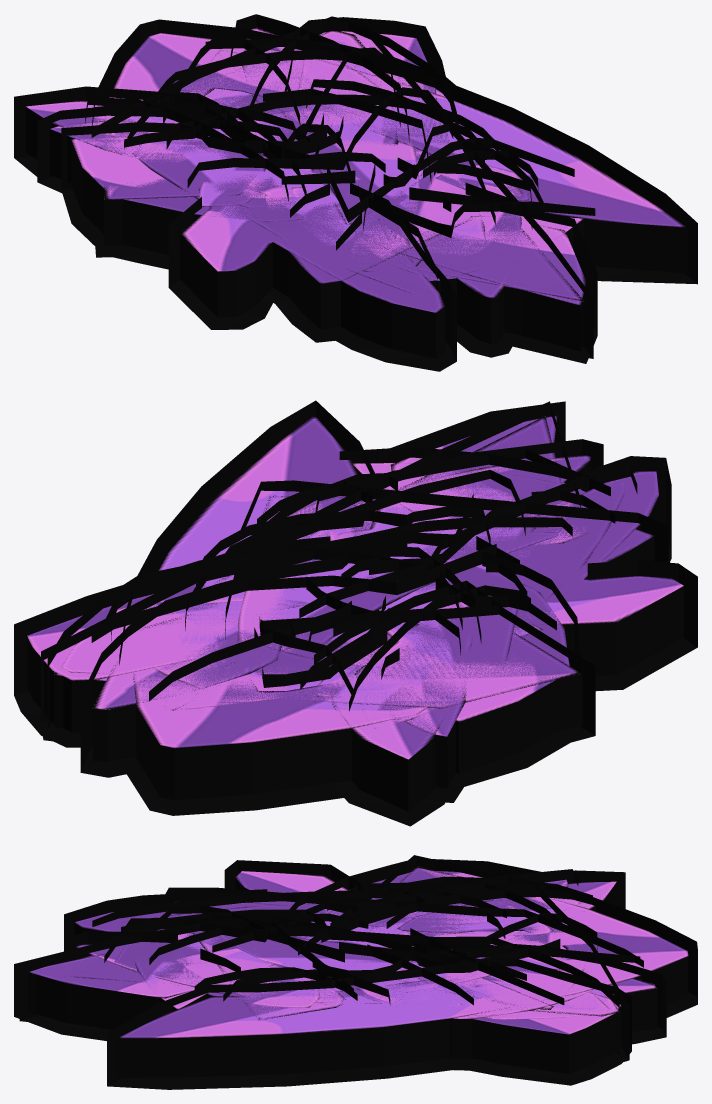
Rendered from Boss_Text.fbx.
3 views of the same model, one above another, from view 1: azimuth 30°, elevation 25°; view 2: azimuth 150°, elevation 25°; view 3: azimuth 270°, elevation 25° (orthographic). The views are drawn at different scales.
Parts seen in each view (by area): view 1: A, V, P, F, W, H, B, R, E, O, M, ~; view 2: A, V, W, F, B, P, H, R, E, O, M, ~; view 3: A, V, P, R, B, W, F, E, H, M, O, ~.
Boxes of the visible parts, x1=… form: A: x1=92, y1=19, x2=697, y2=371; V: x1=61, y1=17, x2=532, y2=336; P: x1=14, y1=37, x2=597, y2=363; F: x1=91, y1=16, x2=593, y2=358; W: x1=37, y1=14, x2=532, y2=357; H: x1=163, y1=37, x2=574, y2=342; B: x1=85, y1=22, x2=595, y2=295; R: x1=153, y1=50, x2=543, y2=351; E: x1=127, y1=88, x2=538, y2=253; O: x1=124, y1=94, x2=498, y2=211; M: x1=94, y1=79, x2=495, y2=251; ~: x1=187, y1=87, x2=453, y2=206; A: x1=119, y1=400, x2=697, y2=815; V: x1=14, y1=449, x2=610, y2=788; W: x1=80, y1=439, x2=615, y2=802; F: x1=41, y1=401, x2=595, y2=773; B: x1=47, y1=447, x2=593, y2=795; P: x1=103, y1=401, x2=565, y2=826; H: x1=91, y1=480, x2=668, y2=710; R: x1=111, y1=468, x2=637, y2=697; E: x1=225, y1=481, x2=572, y2=696; O: x1=196, y1=506, x2=527, y2=676; M: x1=185, y1=469, x2=525, y2=674; ~: x1=161, y1=545, x2=556, y2=644; A: x1=64, y1=860, x2=697, y2=1089; V: x1=104, y1=858, x2=631, y2=1085; P: x1=14, y1=870, x2=640, y2=1070; R: x1=92, y1=890, x2=598, y2=1015; B: x1=121, y1=876, x2=619, y2=1070; W: x1=67, y1=869, x2=666, y2=1044; F: x1=19, y1=855, x2=629, y2=1067; E: x1=197, y1=888, x2=562, y2=1007; H: x1=162, y1=887, x2=643, y2=1019; M: x1=149, y1=889, x2=572, y2=1000; O: x1=212, y1=883, x2=505, y2=1007; ~: x1=298, y1=882, x2=473, y2=1058.
Bounding box in the file's own units: 19.54 × 3.19 × 31.35.
